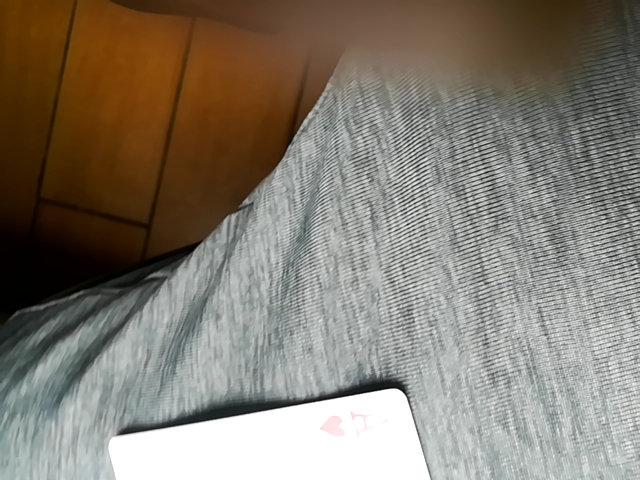hx a: (111, 387, 448, 480)
